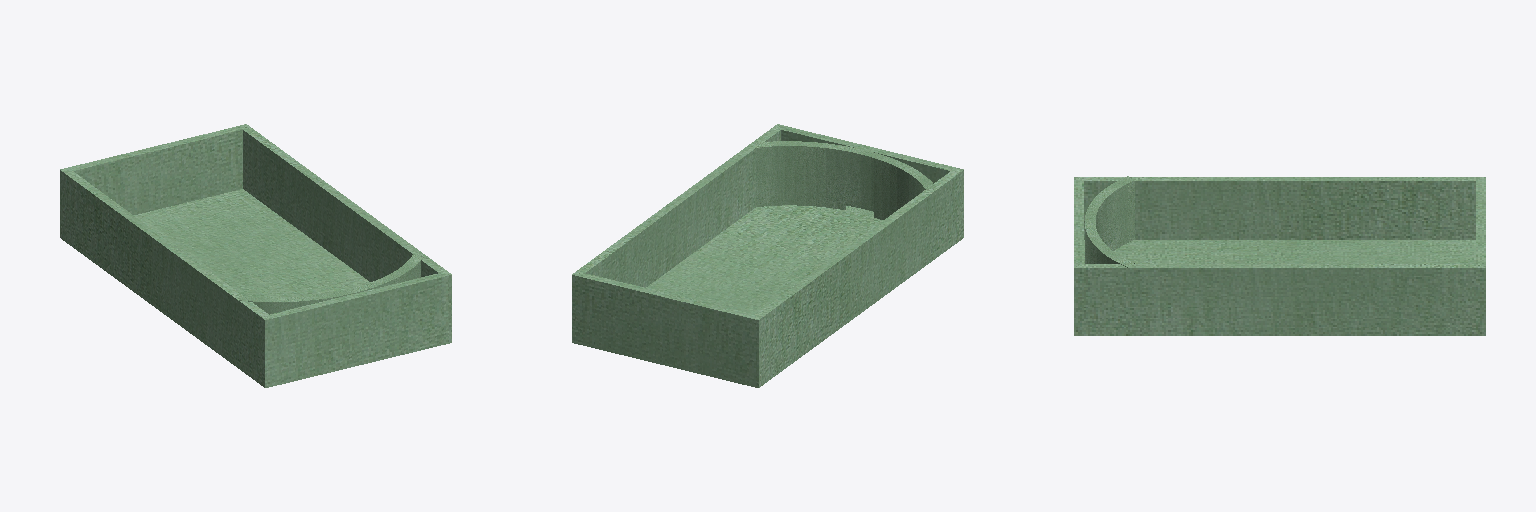
The picture shows the model from 3 angles: view 1: azimuth 30°, elevation 25°; view 2: azimuth 150°, elevation 25°; view 3: azimuth 270°, elevation 25°; orthographic projection.
Visible parts, largest first — view 1: board_Cube, board_bottom_Cube.002; view 2: board_Cube, board_bottom_Cube.002; view 3: board_Cube, board_bottom_Cube.002.
Part boxes in pixels (x1,y1,x2,y2): board_Cube: (60, 124, 451, 387); board_bottom_Cube.002: (239, 254, 424, 314); board_Cube: (572, 124, 963, 387); board_bottom_Cube.002: (751, 141, 936, 219); board_Cube: (1074, 177, 1485, 335); board_bottom_Cube.002: (1085, 176, 1134, 267).
Size of the model in its own units: 6.61 by 2.32 by 12.62.
2 materials, 1 textured.